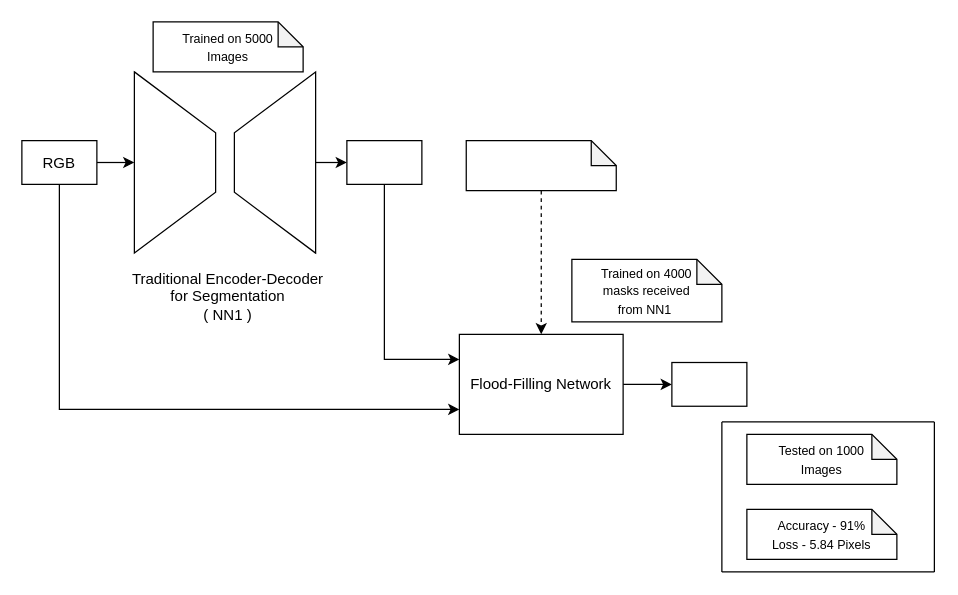
Image size: 958x595. Some labels were removed from this diagram. Here are the shapes that lost their labels. From the top down, the centre of each, then its label:
point (384, 161): Predicted Mask
point (540, 165): 4000 Prediction from NN1
point (709, 383): Final Mask
